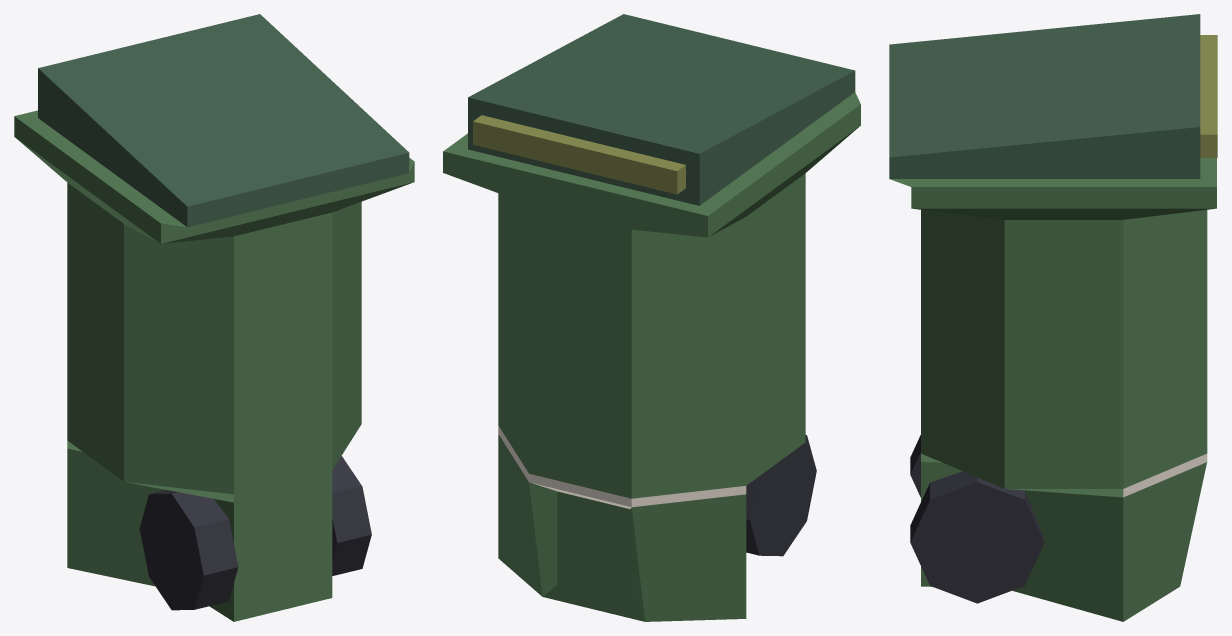
The model's file is trashcan.fbx.
3 renders of one model, left to right at view 1: azimuth 30°, elevation 25°; view 2: azimuth 150°, elevation 25°; view 3: azimuth 270°, elevation 25°, orthographic. The views are drawn at different scales.
Visible parts, largest first — view 1: Circle; view 2: Circle; view 3: Circle.
Part boxes in pixels (box(x1,y1,x2,y2)): Circle: box(14, 14, 414, 621); Circle: box(443, 14, 860, 621); Circle: box(889, 14, 1217, 621).
Size of the model in its own units: 39.46 by 69.94 by 42.43.
